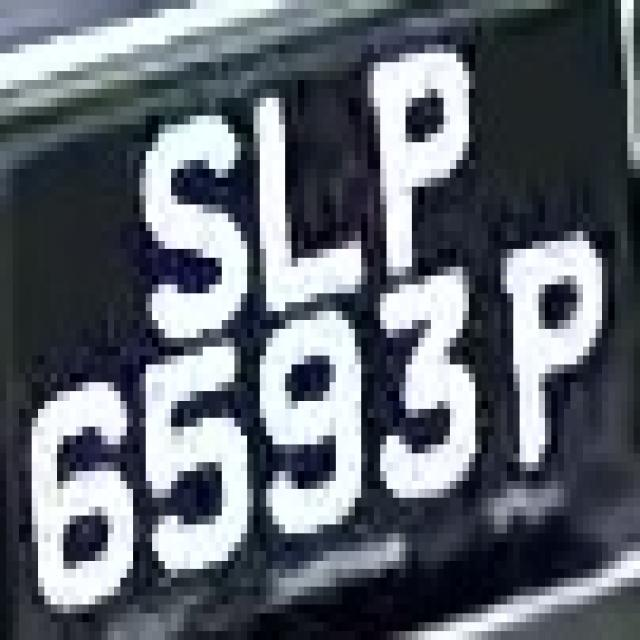3: (355, 231, 488, 551)
5: (133, 329, 273, 587)
6: (13, 356, 139, 614)
9: (241, 284, 367, 542)
L: (241, 80, 361, 320)
P: (476, 231, 628, 489), (336, 53, 500, 258)
S: (108, 98, 247, 346)
